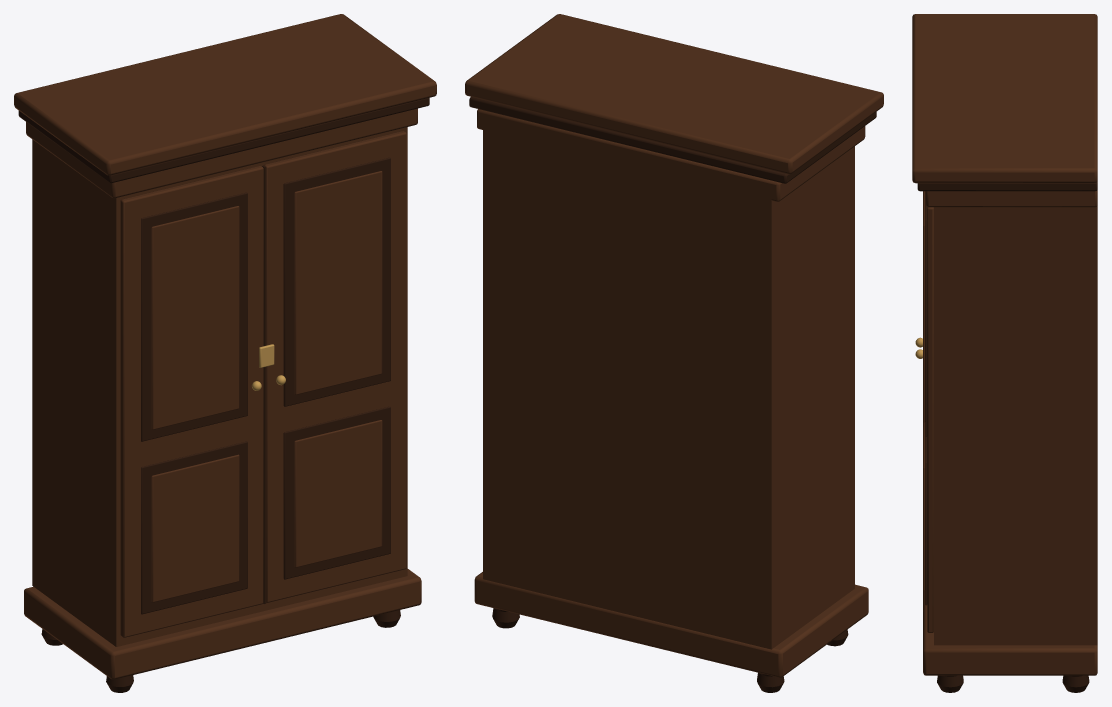
Rendered from wardrobe.glb.
3 views of the same model, side by side, from view 1: azimuth 30°, elevation 25°; view 2: azimuth 150°, elevation 25°; view 3: azimuth 270°, elevation 25° (orthographic). The views are drawn at different scales.
Visible parts, largest first — view 1: wardrobe_walnut, wardrobe_walnut_dark; view 2: wardrobe_walnut, wardrobe_walnut_dark; view 3: wardrobe_walnut, wardrobe_walnut_dark.
Boxes of the visible parts, bbox=[...] form: wardrobe_walnut: bbox=[14, 14, 436, 679]; wardrobe_walnut_dark: bbox=[18, 98, 429, 692]; wardrobe_walnut: bbox=[465, 14, 883, 677]; wardrobe_walnut_dark: bbox=[469, 97, 876, 692]; wardrobe_walnut: bbox=[912, 14, 1097, 675]; wardrobe_walnut_dark: bbox=[917, 181, 1097, 692].
Size of the model in its own units: 1.36 by 2.16 by 0.6801.
